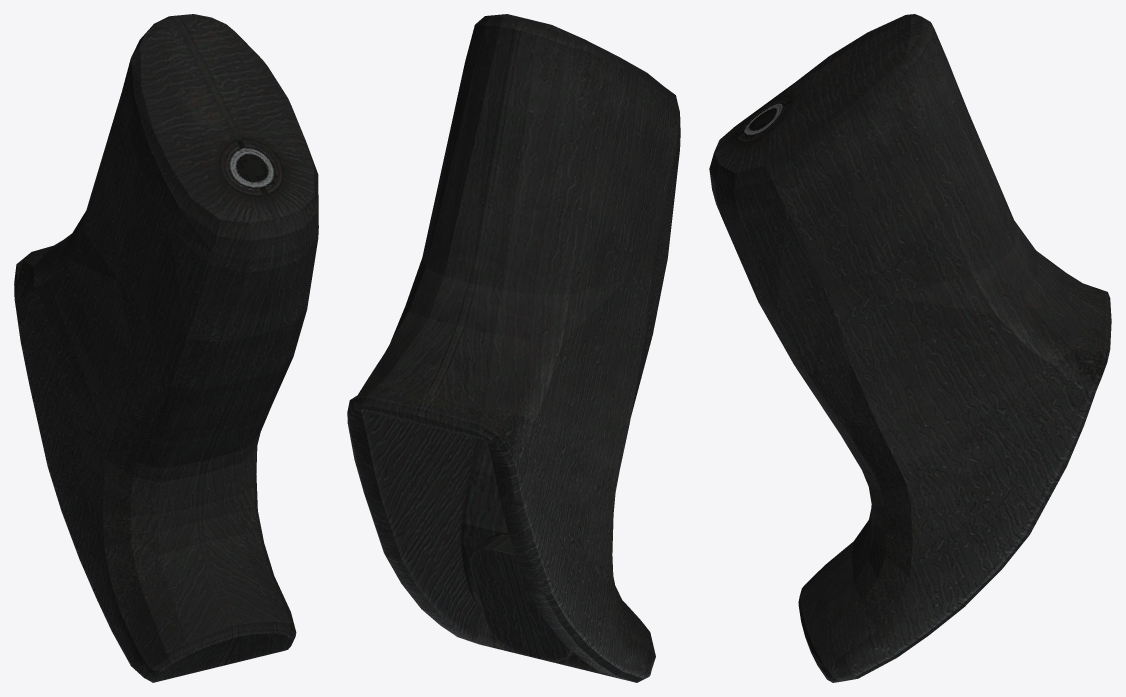
3 renders of one model, left to right at view 1: azimuth 30°, elevation 25°; view 2: azimuth 150°, elevation 25°; view 3: azimuth 270°, elevation 25°, orthographic. The views are drawn at different scales.
Parts seen in each view (by area): view 1: TW_619f4ab2d25cbd424731fb95_PZ_Import; view 2: TW_619f4ab2d25cbd424731fb95_PZ_Import; view 3: TW_619f4ab2d25cbd424731fb95_PZ_Import.
Boxes of the visible parts, box(x1,y1,x2,y2) form: TW_619f4ab2d25cbd424731fb95_PZ_Import: box(14, 14, 318, 682); TW_619f4ab2d25cbd424731fb95_PZ_Import: box(347, 14, 680, 682); TW_619f4ab2d25cbd424731fb95_PZ_Import: box(709, 14, 1111, 682).
Size of the model in its own units: 0.0161 by 0.036 by 0.0619.
1 material, 1 textured.
